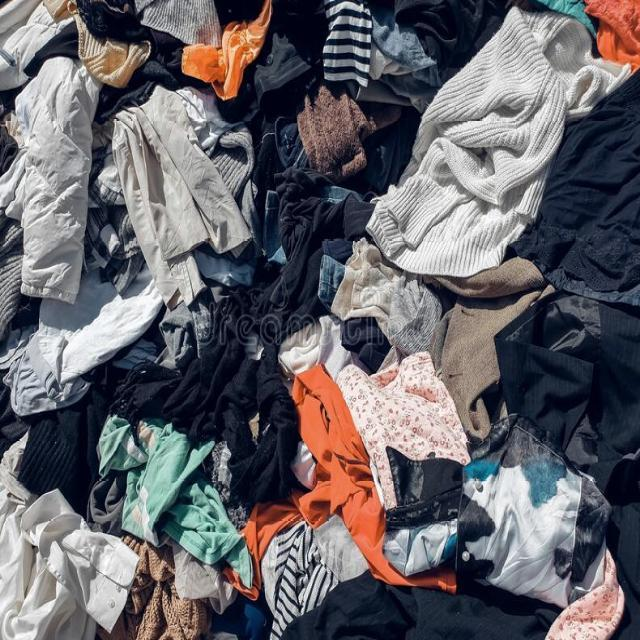clothes: (37, 88, 254, 390)
